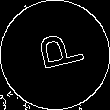P_W: (26, 31, 84, 79)
